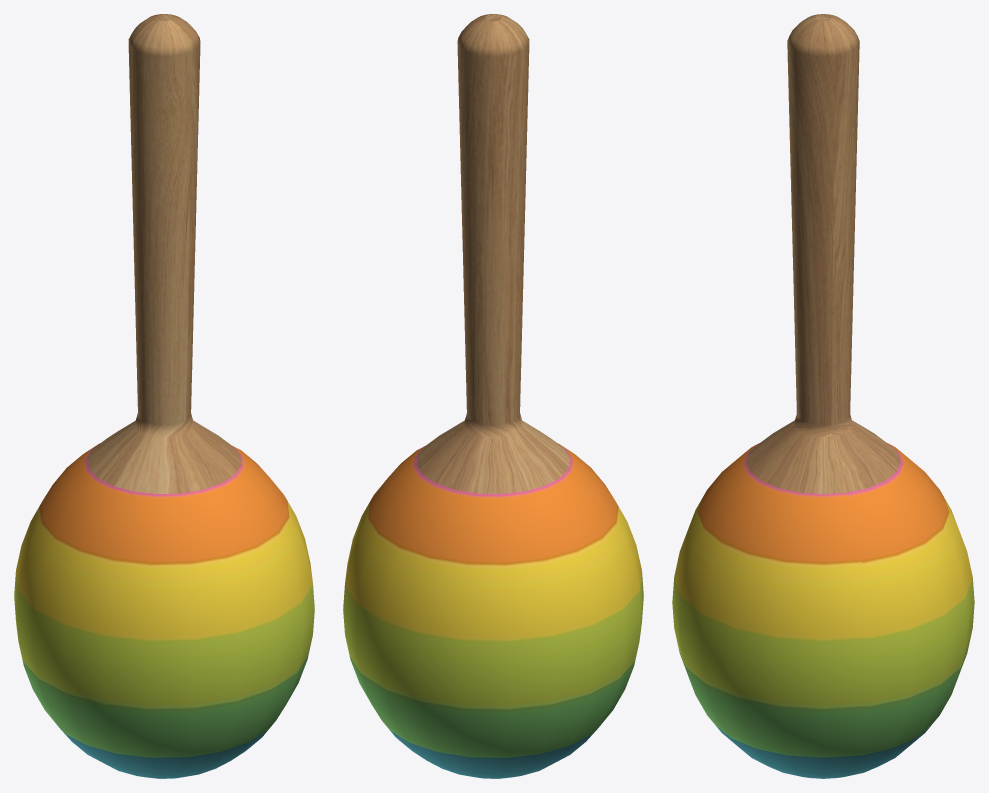
The model's file is Maraca.fbx.
3 renders of one model, left to right at view 1: azimuth 30°, elevation 25°; view 2: azimuth 150°, elevation 25°; view 3: azimuth 270°, elevation 25°, orthographic.
Visible parts, largest first — view 1: pSphere1, pCylinder1; view 2: pSphere1, pCylinder1; view 3: pSphere1, pCylinder1.
Part boxes in pixels (x1=…): pSphere1: x1=14, y1=443, x2=314, y2=778; pCylinder1: x1=87, y1=14, x2=241, y2=493; pSphere1: x1=343, y1=443, x2=643, y2=778; pCylinder1: x1=416, y1=14, x2=570, y2=493; pSphere1: x1=672, y1=443, x2=974, y2=778; pCylinder1: x1=746, y1=14, x2=900, y2=494.
Bounding box in the file's own units: 3.59 × 9.82 × 3.59.
Materials: 2 (2 with a texture image).
